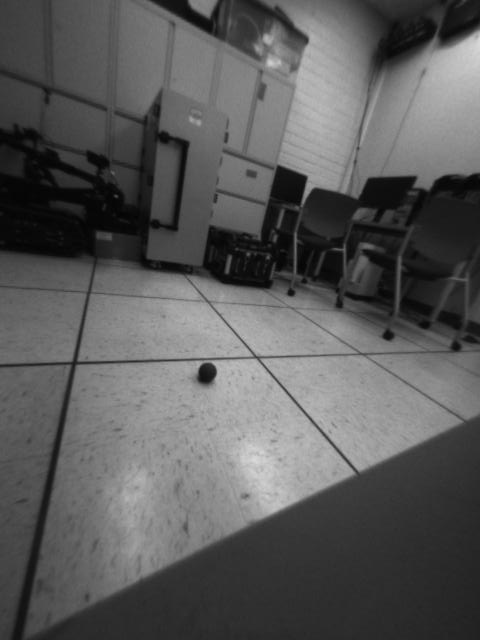dogtoy: (190, 354, 225, 390)
